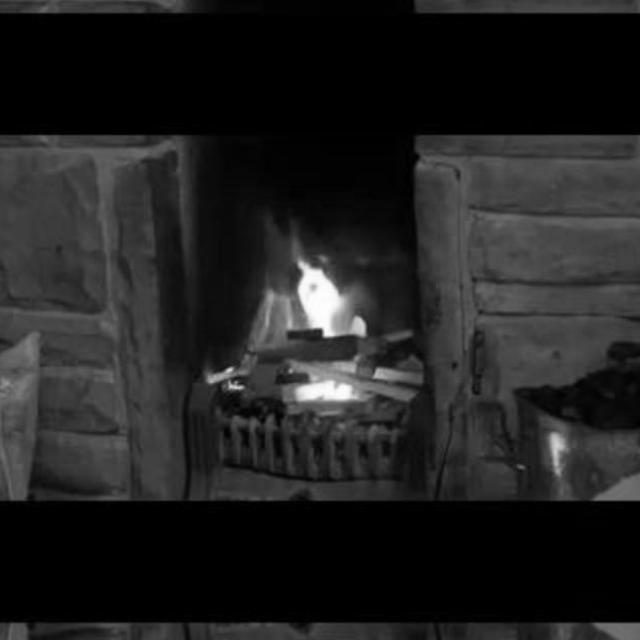smoke: (288, 251, 347, 340)
